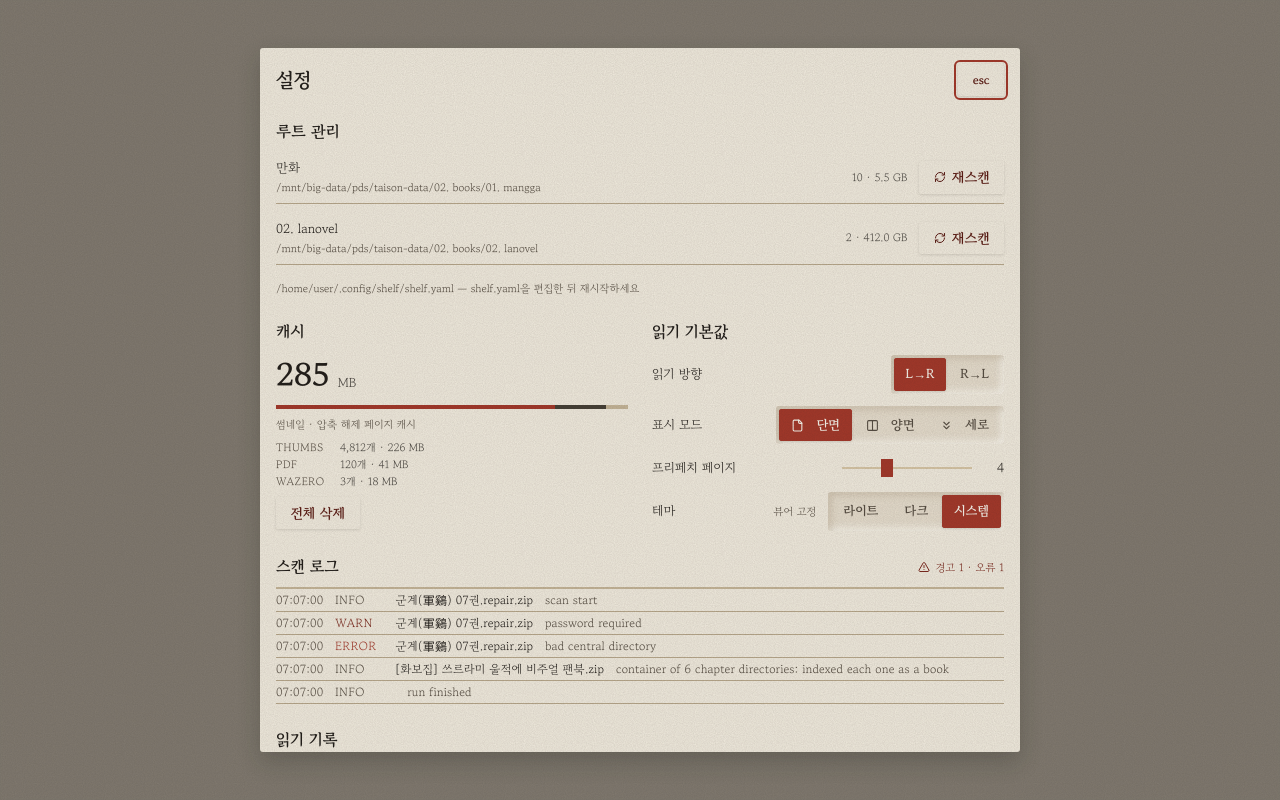
Test: 스캔 진행 상황 (FR-IDX-004) › says the connection failed when the request never reached the server
The image size is (1280, 800).
Expected: the text "만화" is shown, [276, 158, 300, 177]
Click the button "재스캔" next to "10 · 5.5 GB": (962, 177) [919, 161, 1004, 194]
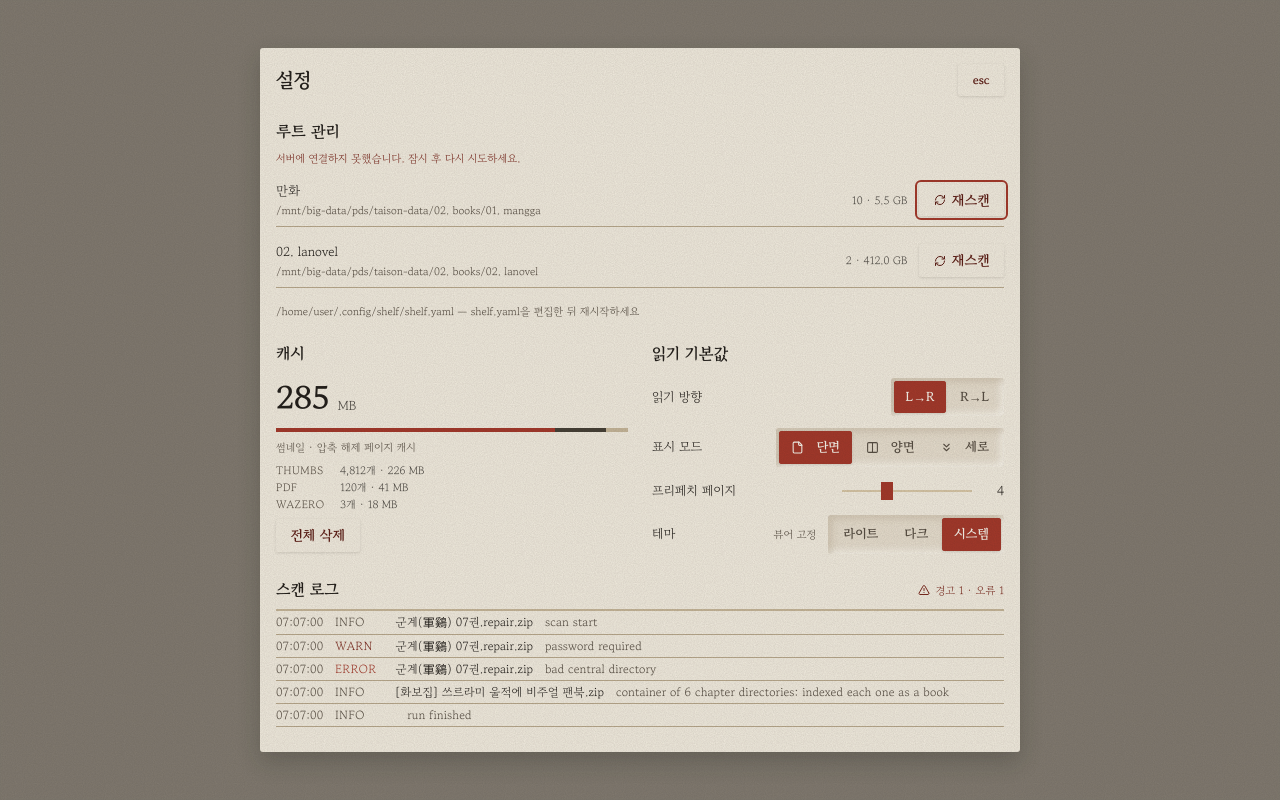
Now the message with test id "scan-start-error" shows "서버에 연결하지 못했습니다", box [276, 150, 520, 166]
